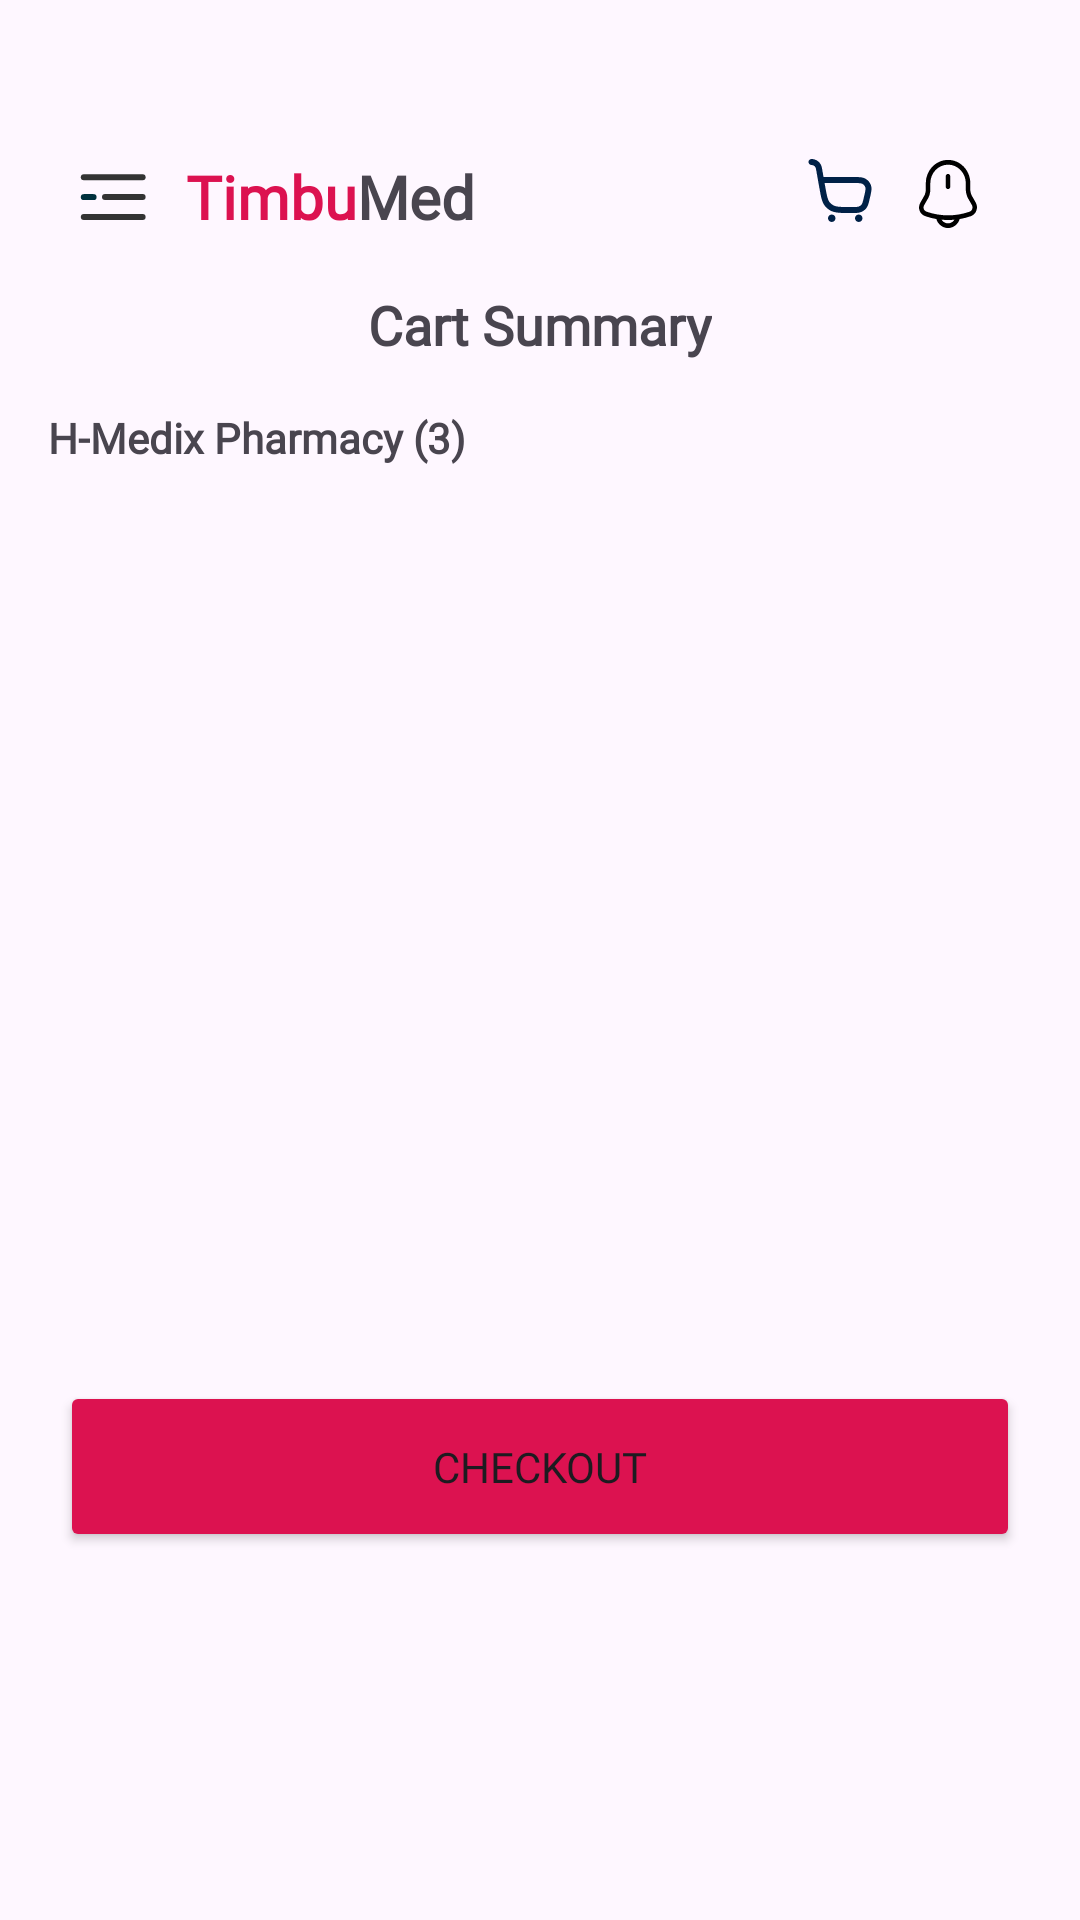

Locate icon controls on the screen. Image size 1080px×1920px, boxes as (x1, y1, x2, y2).
menu: (80, 174, 146, 220)
notification bing: (919, 160, 977, 228)
